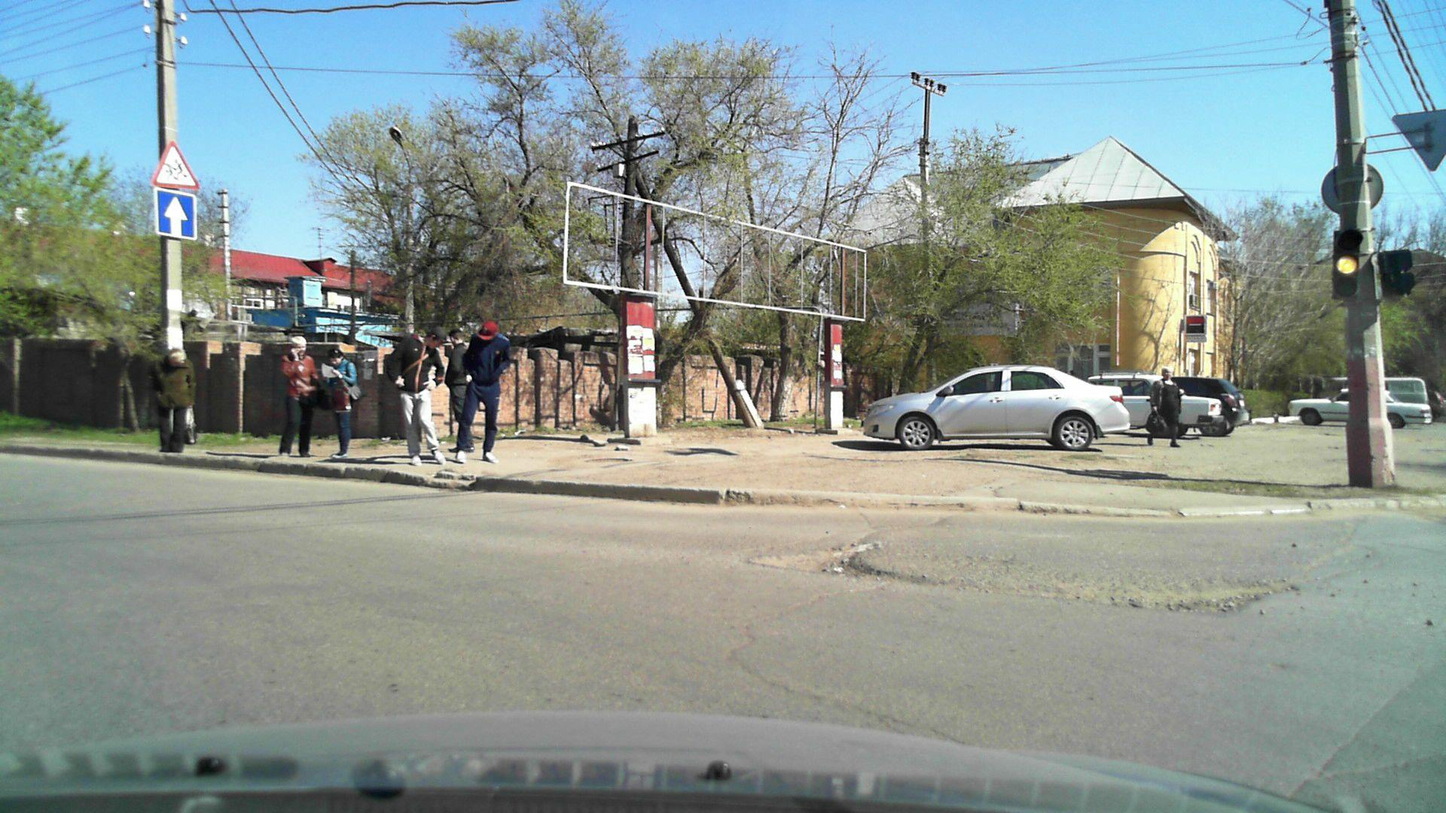off traffic light: (1379, 249, 1416, 297)
pothole: (994, 580, 1296, 615), (748, 544, 948, 582)
road_sign: (152, 141, 200, 189), (155, 187, 196, 241)
traffic light: (1332, 228, 1364, 302)
